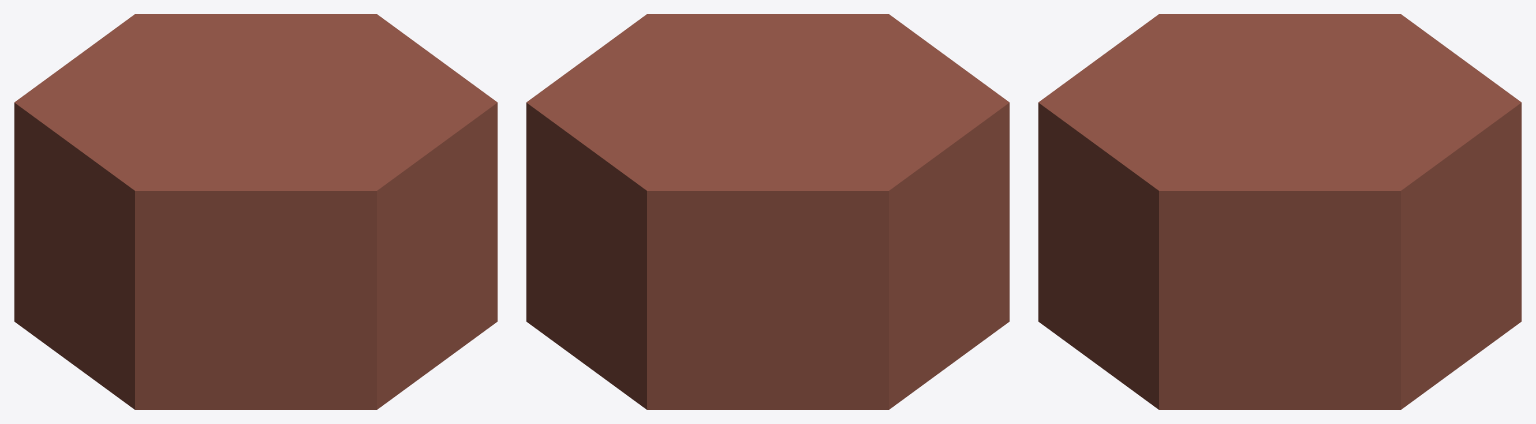
File: DirtTile.fbx
The picture shows the model from 3 angles, left to right: view 1: azimuth 30°, elevation 25°; view 2: azimuth 150°, elevation 25°; view 3: azimuth 270°, elevation 25°; orthographic projection.
Parts seen in each view (by area): view 1: Cylinder; view 2: Cylinder; view 3: Cylinder.
Boxes of the visible parts, x1,y1,x2,y2 form: Cylinder: (14,14,497,409); Cylinder: (526,14,1009,409); Cylinder: (1038,14,1521,409).
Size of the model in its own units: 173 by 100 by 200.
